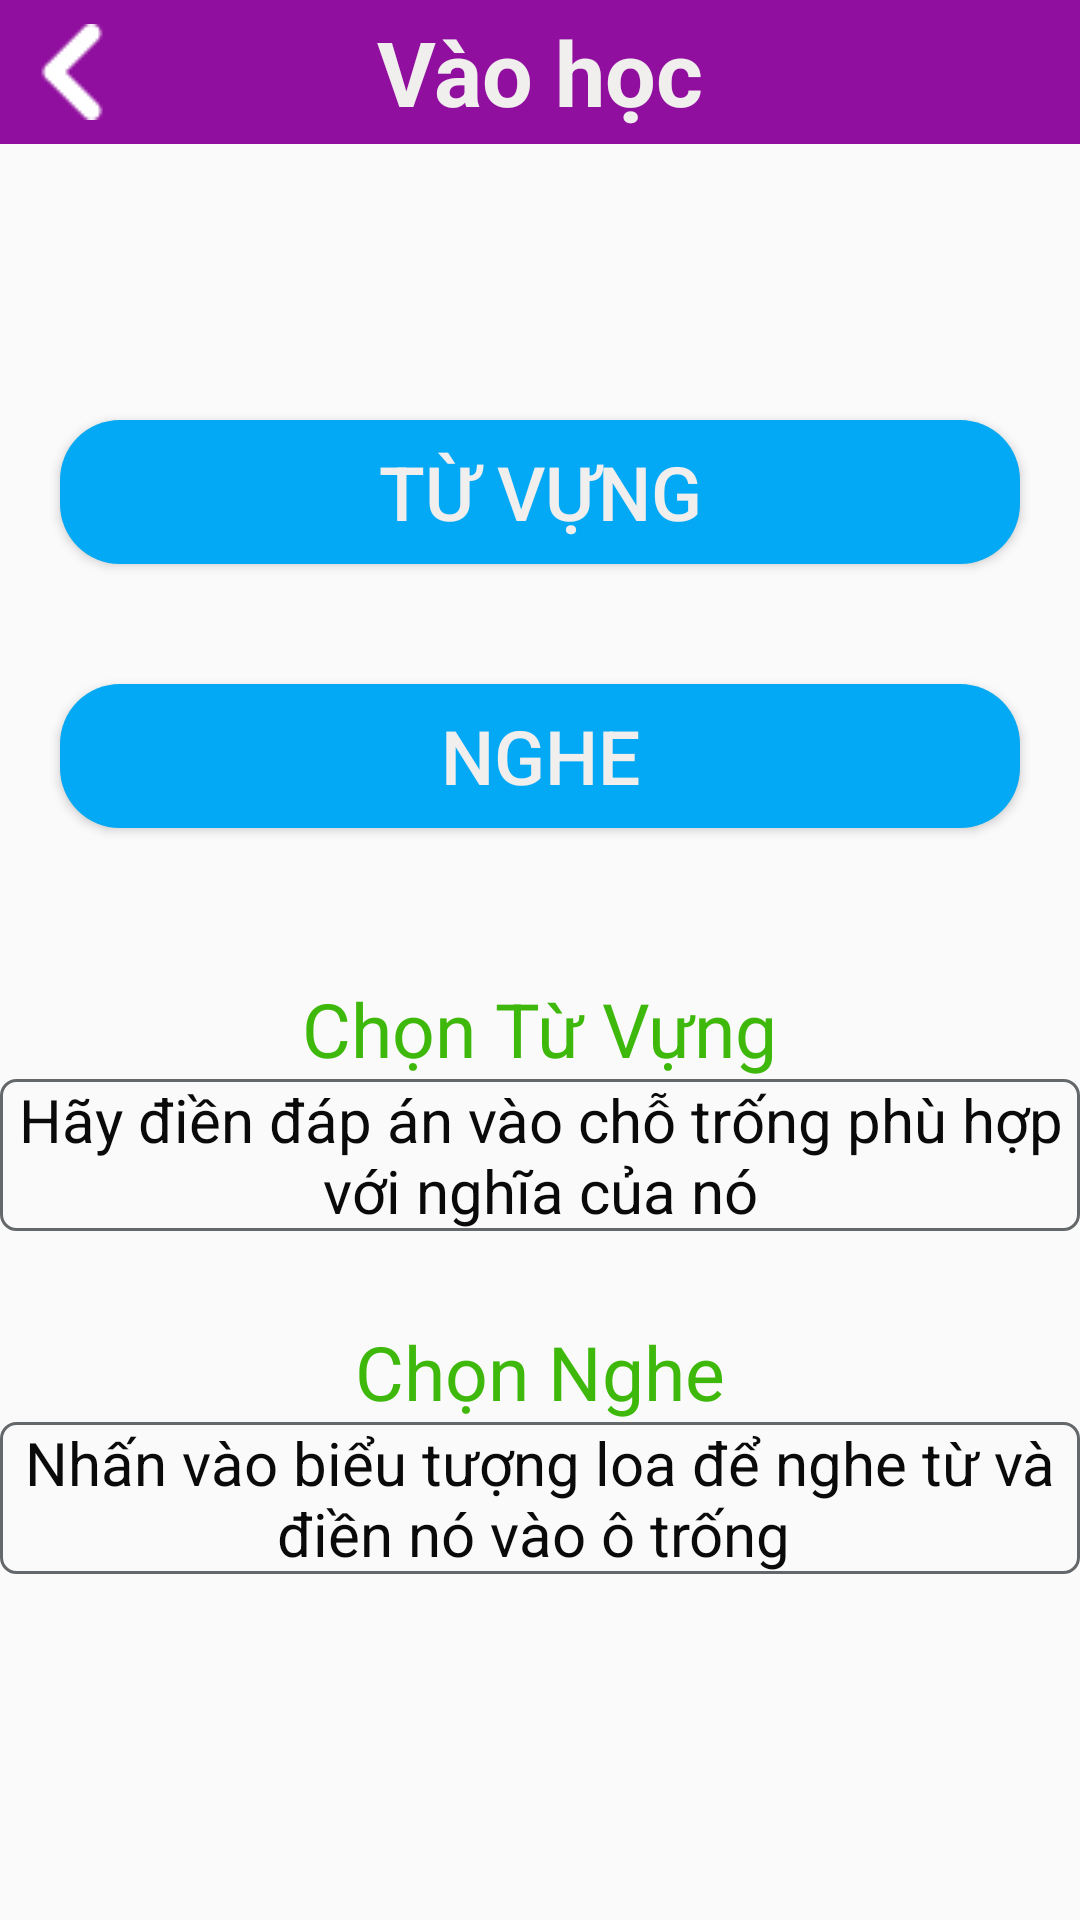

Icons on this 1080w x 1920h Android screen, each with the point to tap as (x,y):
backk trang: (72,72)
